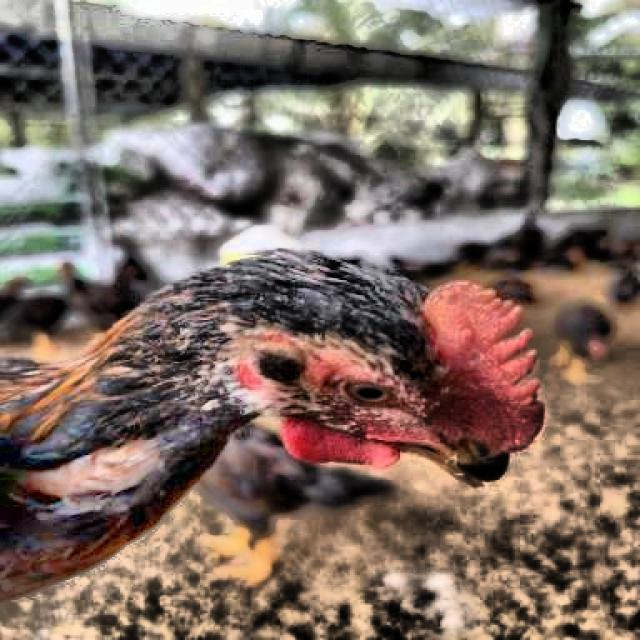Healthy: (332, 365, 406, 413)
